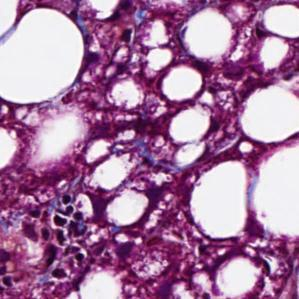inflammation: (23, 195, 99, 243), (190, 237, 281, 276), (78, 27, 143, 75), (41, 248, 95, 290)
